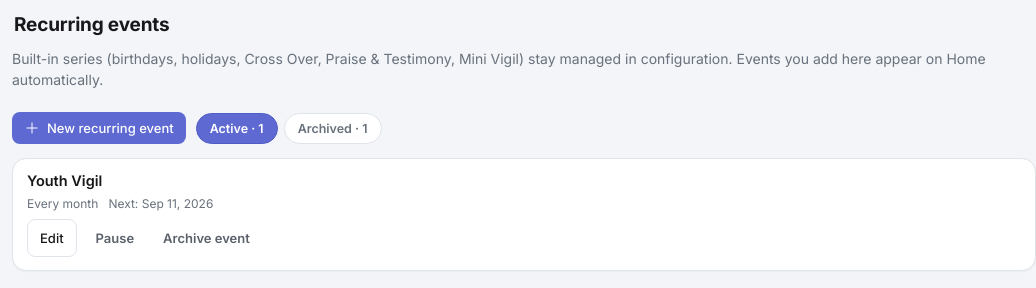
it: AdminEvents Active/Archived views › explicit Active/Archived toggle buttons: aria-pressed states are mutually exclusive, names carry counts
# Selecting Archived flips the pressed states and shows the archived row.
Click the button named "Archived events (1)" at (333, 128), box x1=284 y1=112 x2=382 y2=144
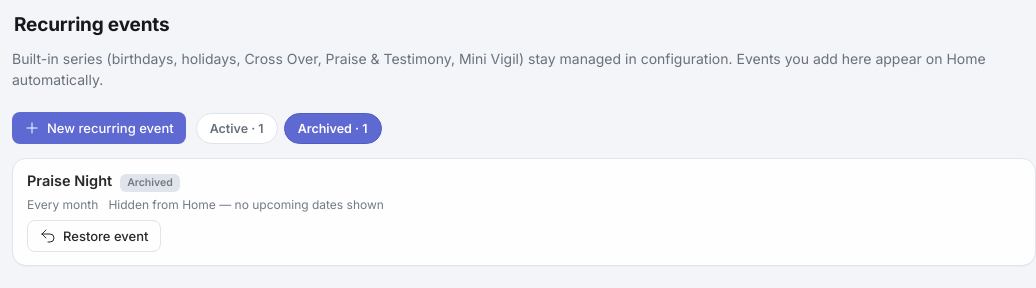
Now the text "Praise Night" is shown, box x1=27 y1=172 x2=112 y2=189
